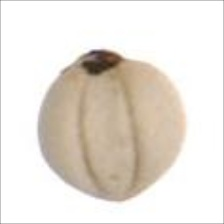L5: (76, 74, 143, 192), (61, 176, 164, 202), (63, 49, 130, 79)
L6: (33, 48, 186, 202)
